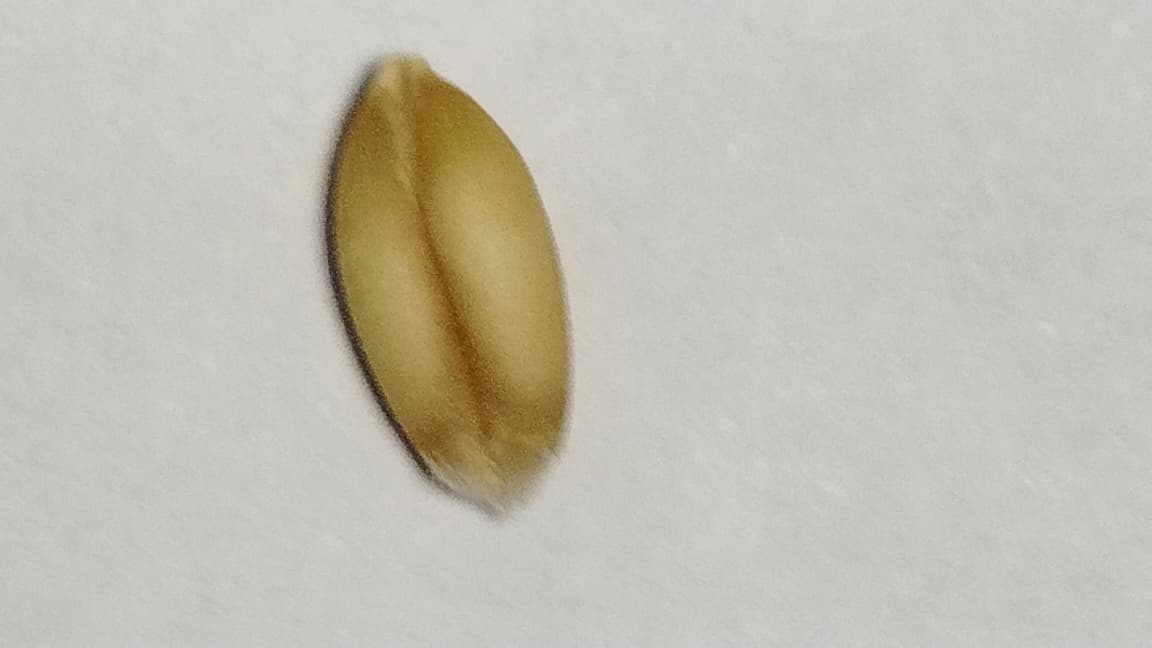healthy: (324, 55, 573, 480)
